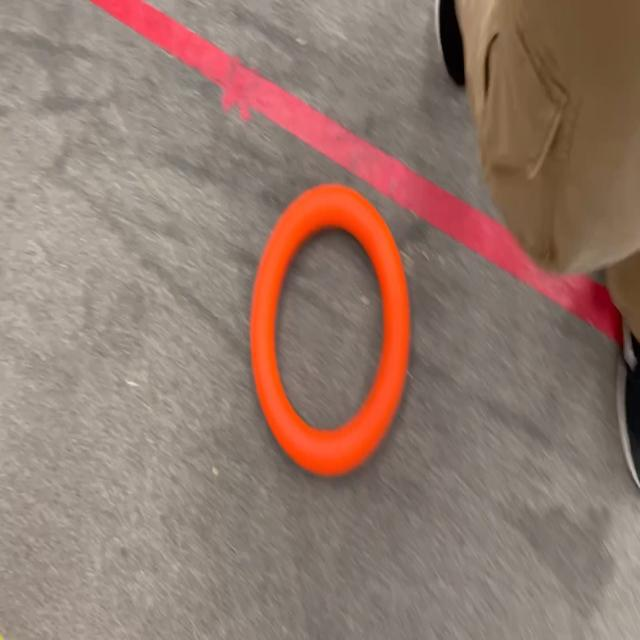note: (250, 187, 410, 482)
